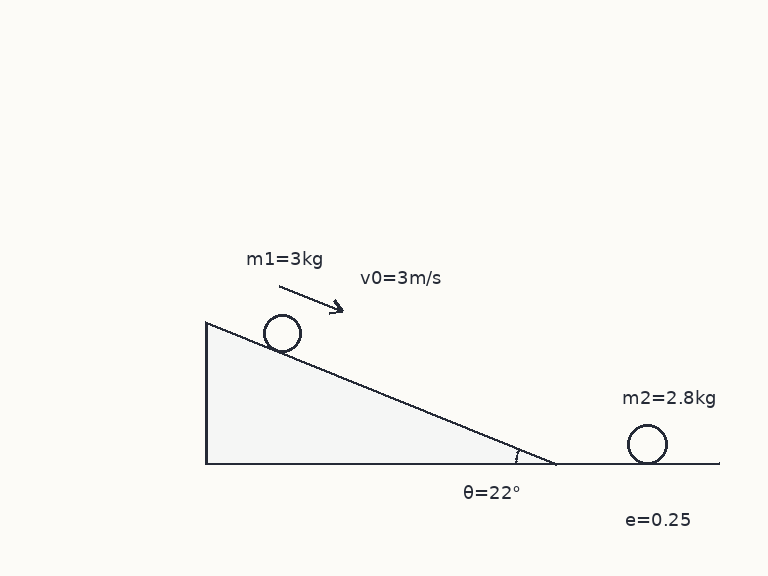ball: (625, 422, 669, 466), (261, 312, 303, 354)
ramp: (204, 320, 558, 466)
